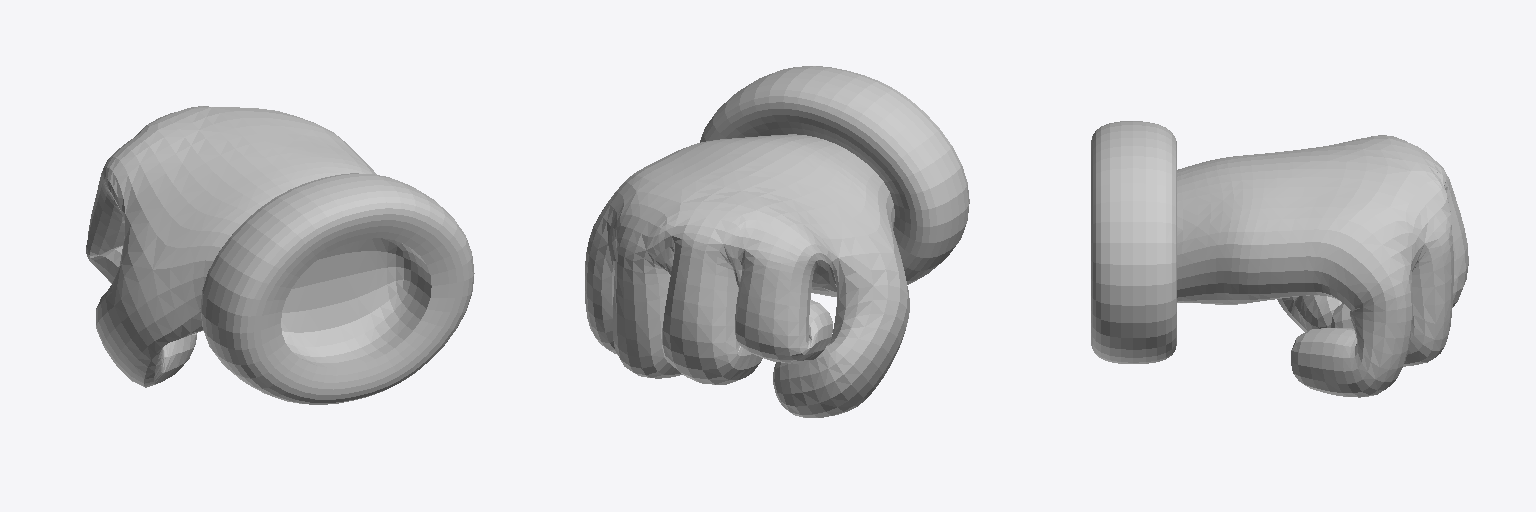
The model's file is TOON_HAND.obj.
The picture shows the model from 3 angles: view 1: azimuth 30°, elevation 25°; view 2: azimuth 150°, elevation 25°; view 3: azimuth 270°, elevation 25°; orthographic projection.
Visible parts, largest first — view 1: Cube; view 2: Cube; view 3: Cube.
Boxes of the visible parts, x1=… form: Cube: x1=86, y1=106, x2=474, y2=404; Cube: x1=585, y1=66, x2=969, y2=417; Cube: x1=1091, y1=121, x2=1468, y2=397.
Bounding box in the file's own units: 9.46 × 8.2 × 11.47.